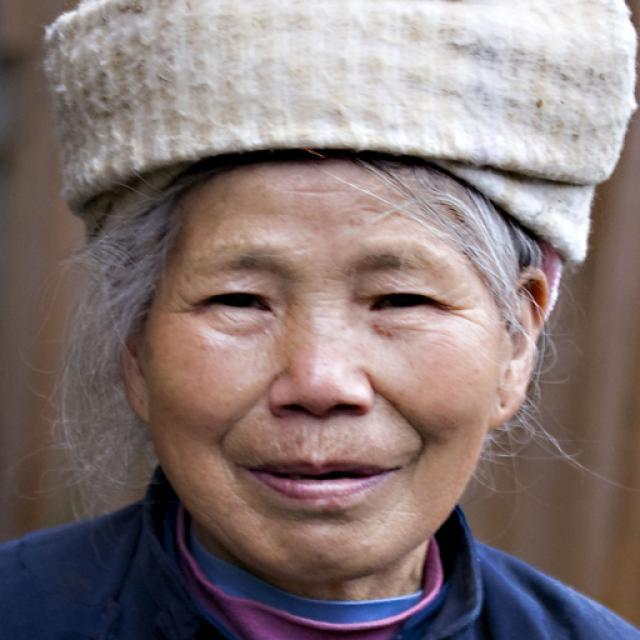happy: (145, 142, 500, 578)
